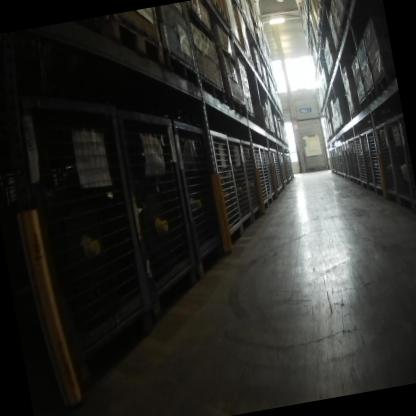pallet: (104, 9, 169, 79), (158, 42, 201, 90), (196, 73, 229, 110), (208, 0, 230, 28), (222, 93, 244, 118), (373, 69, 393, 93), (365, 85, 379, 107), (357, 94, 369, 113), (247, 111, 258, 129), (348, 108, 358, 123)
stillage: (5, 73, 161, 376), (111, 93, 205, 308), (164, 105, 230, 278), (200, 122, 245, 246), (222, 123, 257, 240), (382, 109, 416, 213), (237, 133, 267, 232), (372, 114, 401, 205), (363, 124, 387, 198), (398, 111, 416, 209), (250, 138, 269, 211), (358, 126, 378, 193), (257, 140, 274, 208), (353, 131, 371, 191), (262, 144, 278, 201), (348, 131, 363, 188), (268, 147, 281, 196), (346, 136, 358, 185), (343, 139, 355, 182), (340, 139, 352, 181), (273, 148, 284, 192), (338, 139, 349, 179), (337, 146, 345, 177)
